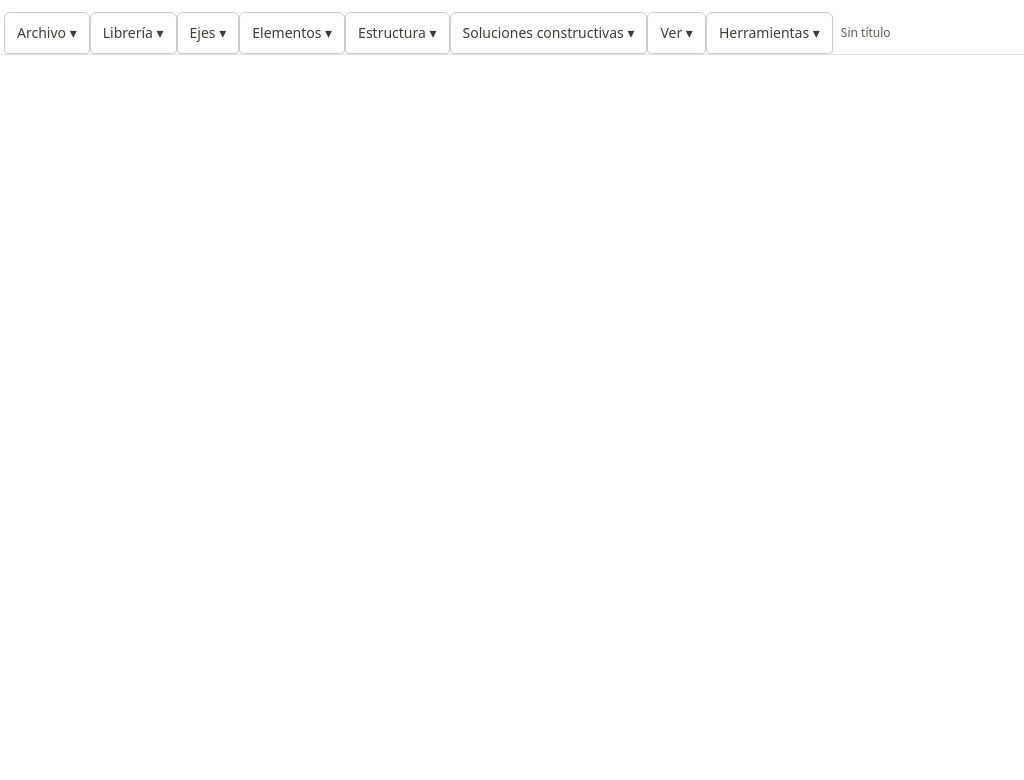
Test case: SPEC-004-B: sin runtime nativo conserva flujos web y deshabilita sólo los nativos
Click the button "Archivo ▾". click: (47, 33)
box: [4, 12, 90, 54]
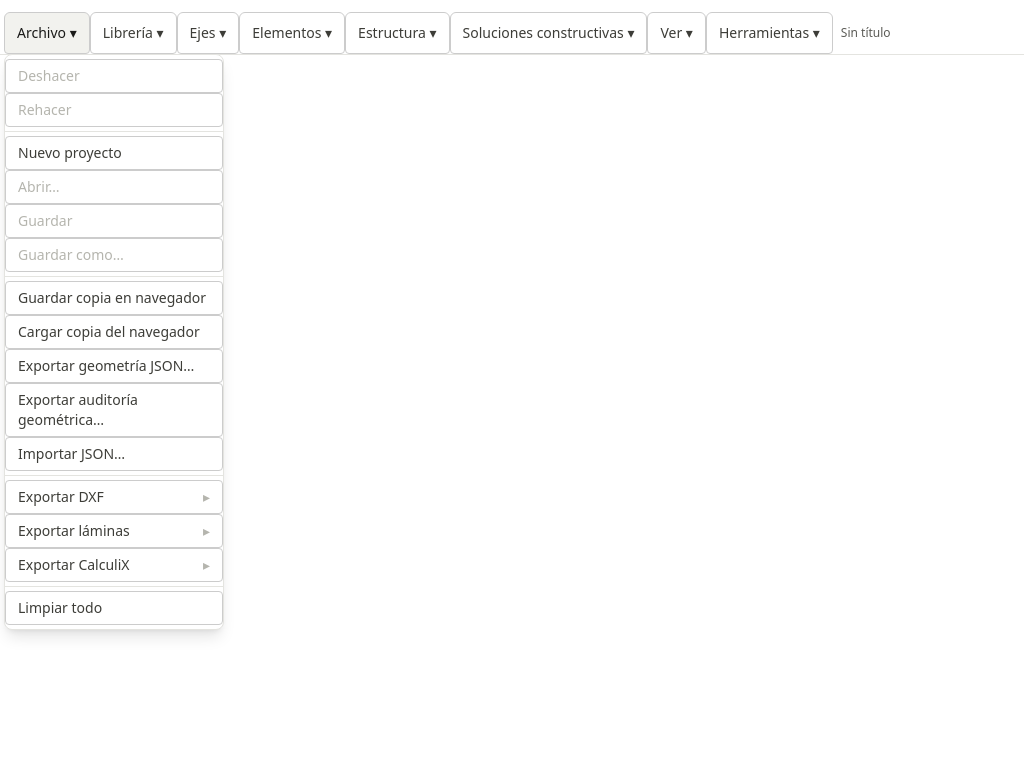
Expected: the button "Guardar copia en navegador" is shown, [5, 281, 223, 315]
Expected: the button "Cargar copia del navegador" is shown, [5, 315, 223, 349]
